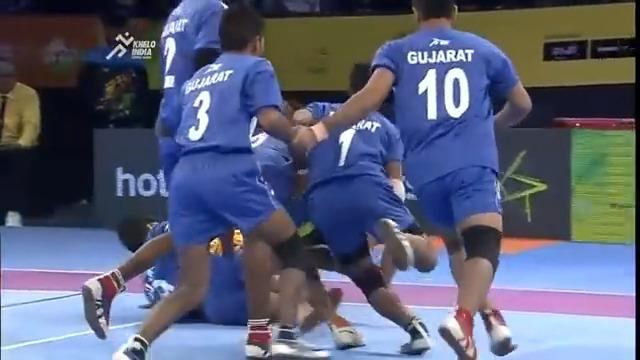Player: (294, 1, 533, 357), (112, 4, 329, 358), (194, 8, 301, 330), (324, 65, 395, 245)
referee: (0, 42, 42, 149)
